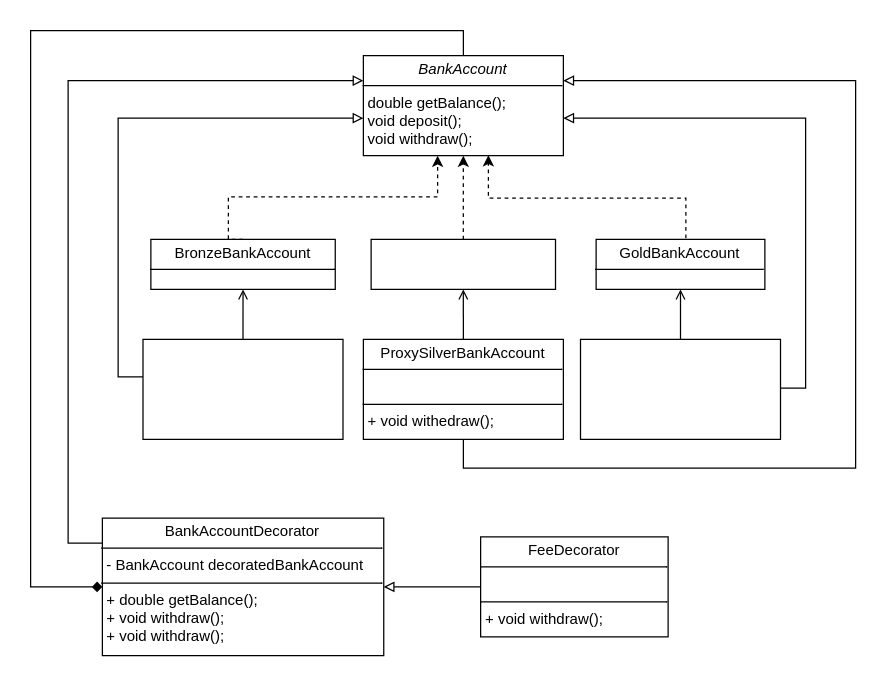
This 888x678 diagram has some shape labels left out. Each missing label, with the centre of its shape:
ProxyBronzeBankAccount + void withdraw();: the point at 242,388
ProxyGoldBankAccount + void withdraw();: the point at 679,388
SilverBankAccount: the point at 463,263
